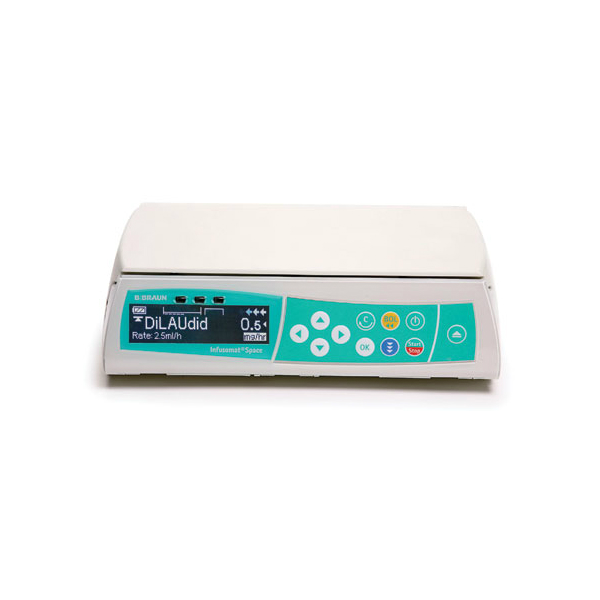BBraun Infusomat Space: (93, 197, 508, 404)
